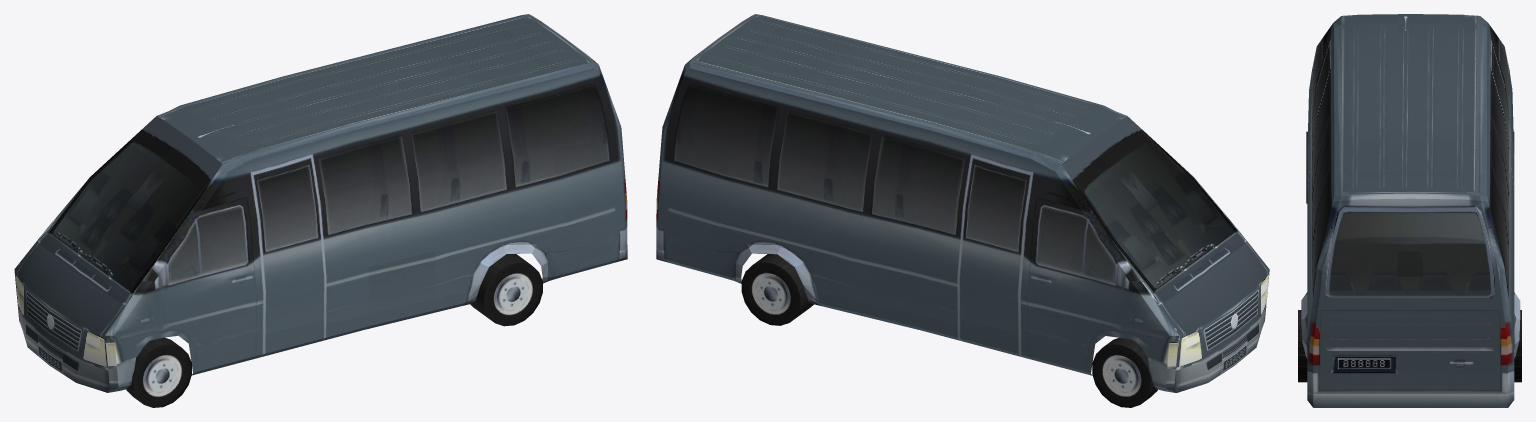
Rendered from ltmbus-a.FBX.
3 renders of one model, left to right at view 1: azimuth 30°, elevation 25°; view 2: azimuth 150°, elevation 25°; view 3: azimuth 270°, elevation 25°, orthographic. The views are drawn at different scales.
Parts seen in each view (by area): view 1: ltmbus-a; view 2: ltmbus-a; view 3: ltmbus-a.
Part boxes in pixels (x1=…): ltmbus-a: x1=14, y1=14, x2=627, y2=407; ltmbus-a: x1=656, y1=14, x2=1269, y2=407; ltmbus-a: x1=1298, y1=14, x2=1521, y2=407.
Bounding box in the file's own units: 6.14 × 2.12 × 2.48.
